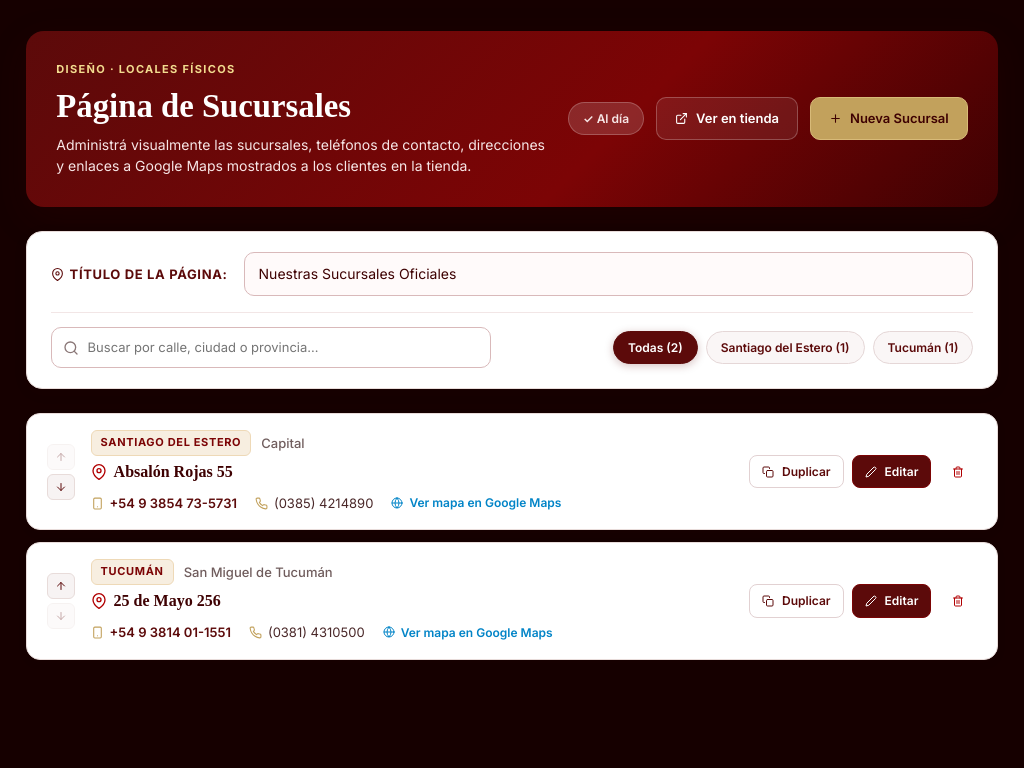
it: SucursalesAdmin — Panel Administrativo de Sucursales › permite agregar una nueva sucursal abriendo el modal y guardando
Later steps or results of the test are not shown.
Check: the text "Absalón Rojas 55" is shown, box x1=114 y1=462 x2=233 y2=483
Click the button with aria-label "agregar sucursal".
click(889, 119)  # box x1=810 y1=98 x2=968 y2=140
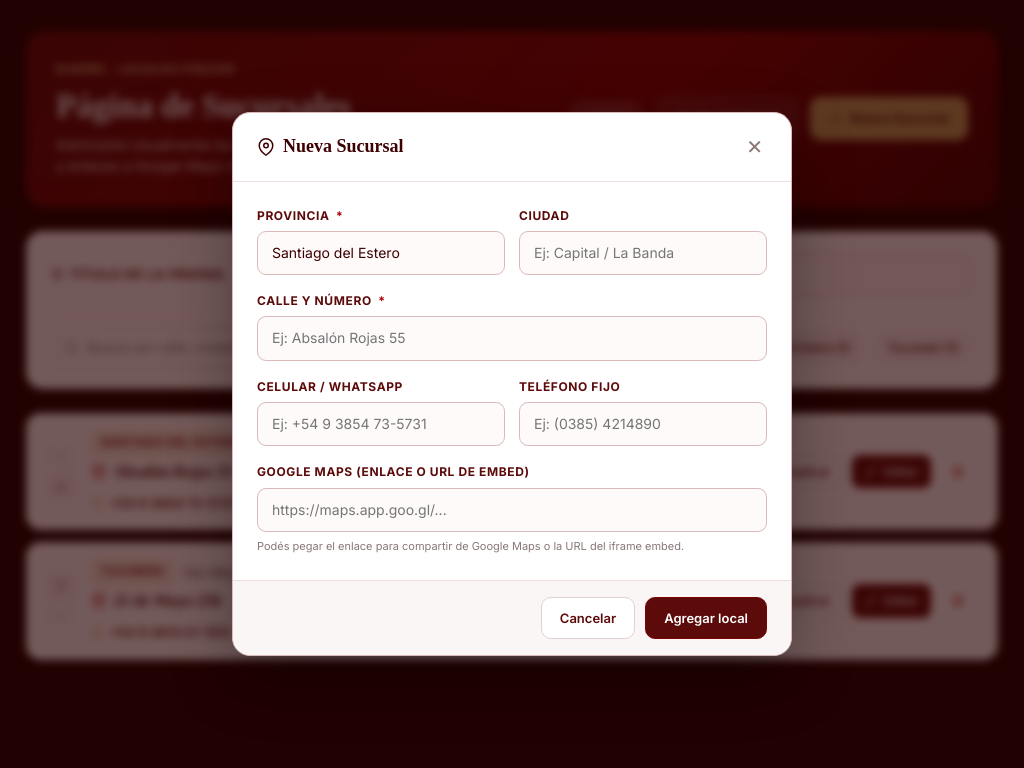
Check: the heading "Nueva Sucursal" is shown, box x1=257 y1=135 x2=404 y2=158
Type "Pellegrini 141" into the field labelled "Calle y Número *".
click(512, 339); type("Pellegrini 141")  # box x1=257 y1=316 x2=767 y2=361
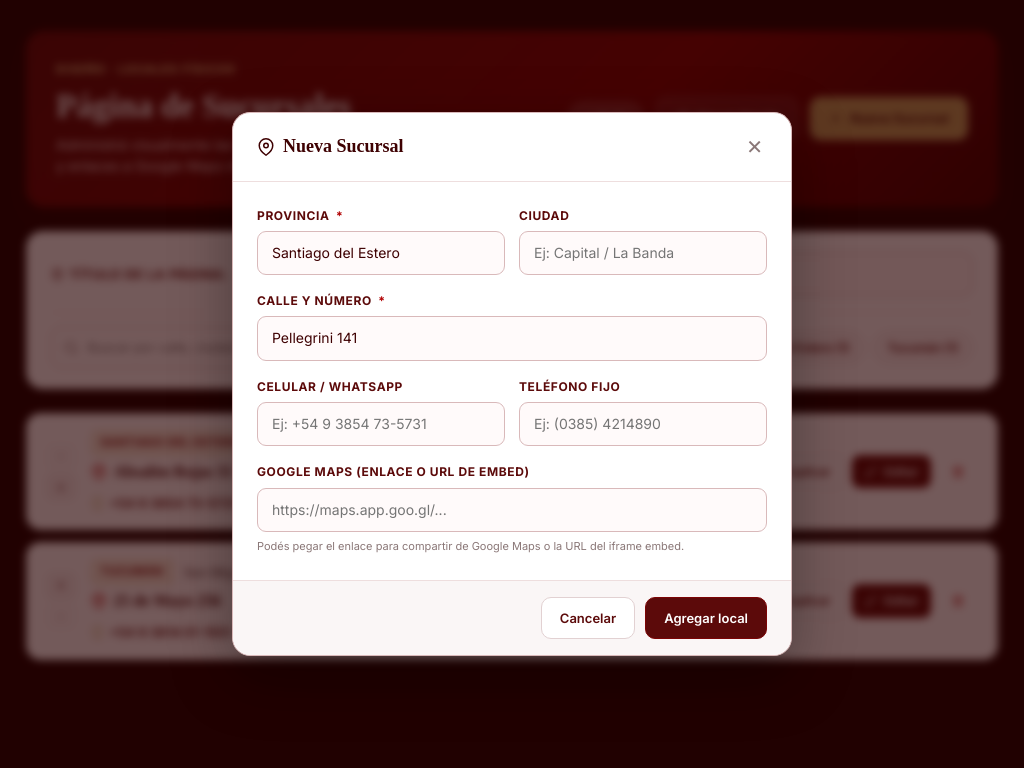
Click the button "Agregar local".
click(706, 618)  # box x1=645 y1=596 x2=767 y2=639
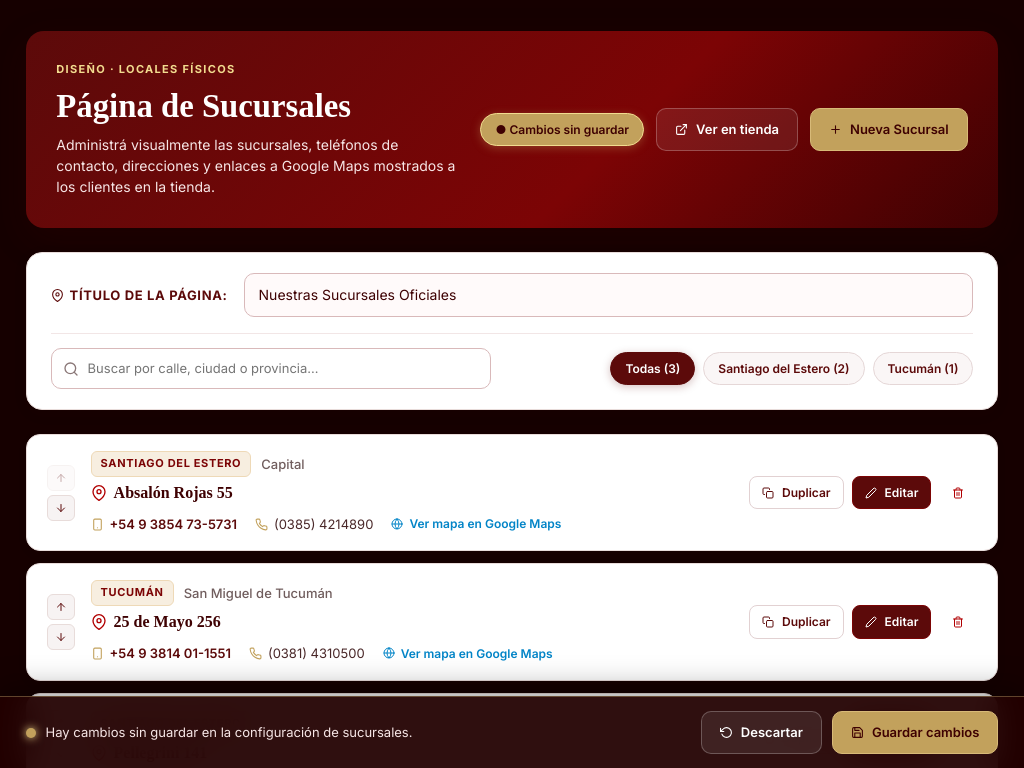
Check: the button "Guardar cambios" is shown, box x1=832 y1=711 x2=998 y2=754
